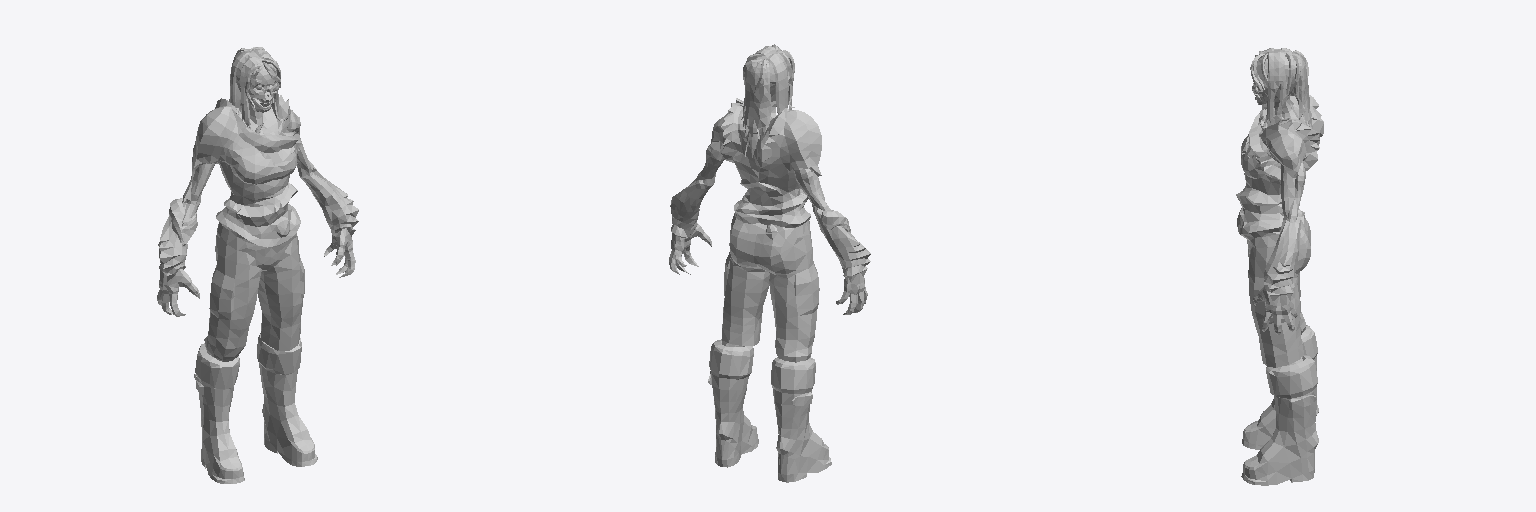
The model's file is zombie.obj.
3 views of the same model, side by side, from view 1: azimuth 30°, elevation 25°; view 2: azimuth 150°, elevation 25°; view 3: azimuth 270°, elevation 25° (orthographic).
Parts seen in each view (by area): view 1: zombie; view 2: zombie; view 3: zombie.
Boxes of the visible parts, box(x1,y1,x2,y2) form: zombie: box(157, 47, 358, 483); zombie: box(669, 44, 870, 482); zombie: box(1236, 48, 1323, 485).
Size of the model in its own units: 1.84 by 3.62 by 0.7056.